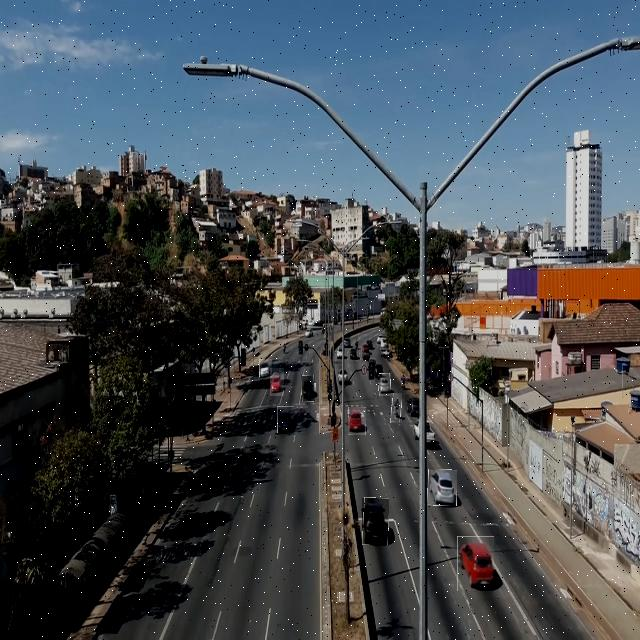Car: (457, 536, 494, 591), (362, 498, 389, 545), (428, 470, 457, 506), (348, 407, 366, 435), (277, 406, 294, 433), (270, 368, 284, 396), (405, 393, 421, 417), (302, 375, 316, 402), (379, 373, 391, 396), (259, 359, 272, 377)
Motorcycle: (391, 394, 402, 424)
